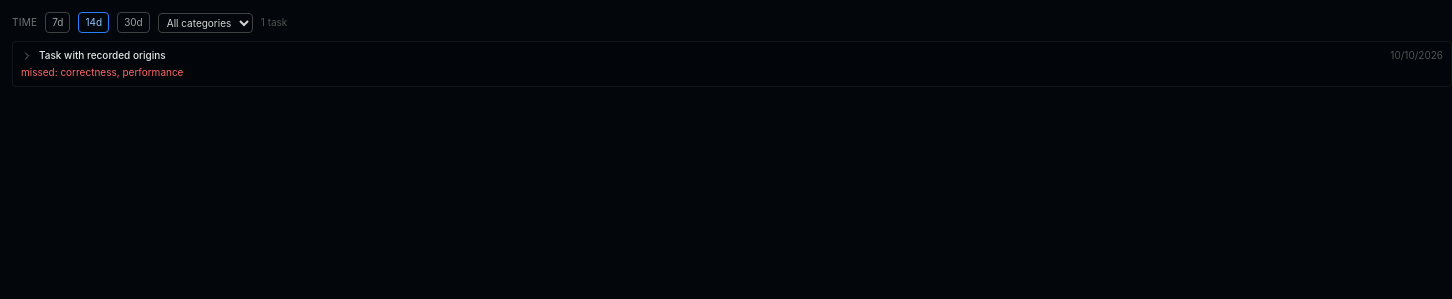
Test: SrMissedRetrospective drilldown › shows self-review origin tags for missed categories
The image size is (1452, 299).
Step 1. Click the button named "expand task with recorded origins" → (27, 56), box 21,50 -> 33,62
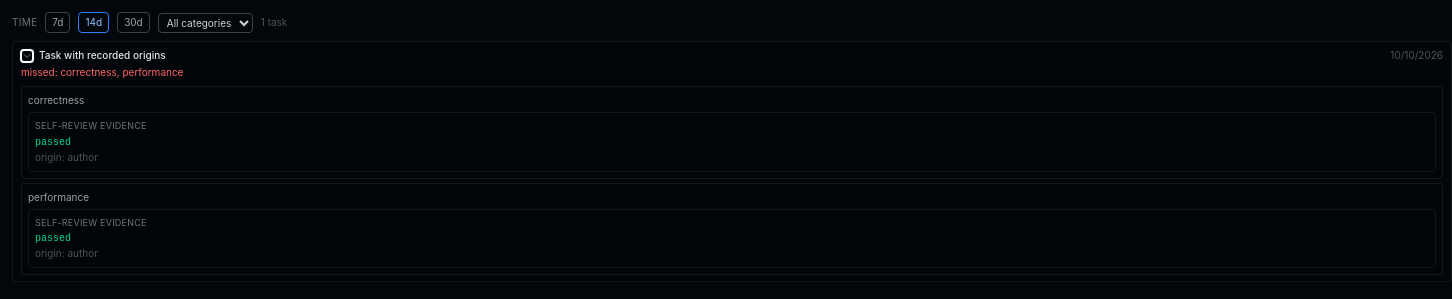
Result: the text "origin: author" is shown 2 times at 35,150 -> 98,162; 35,247 -> 98,259
